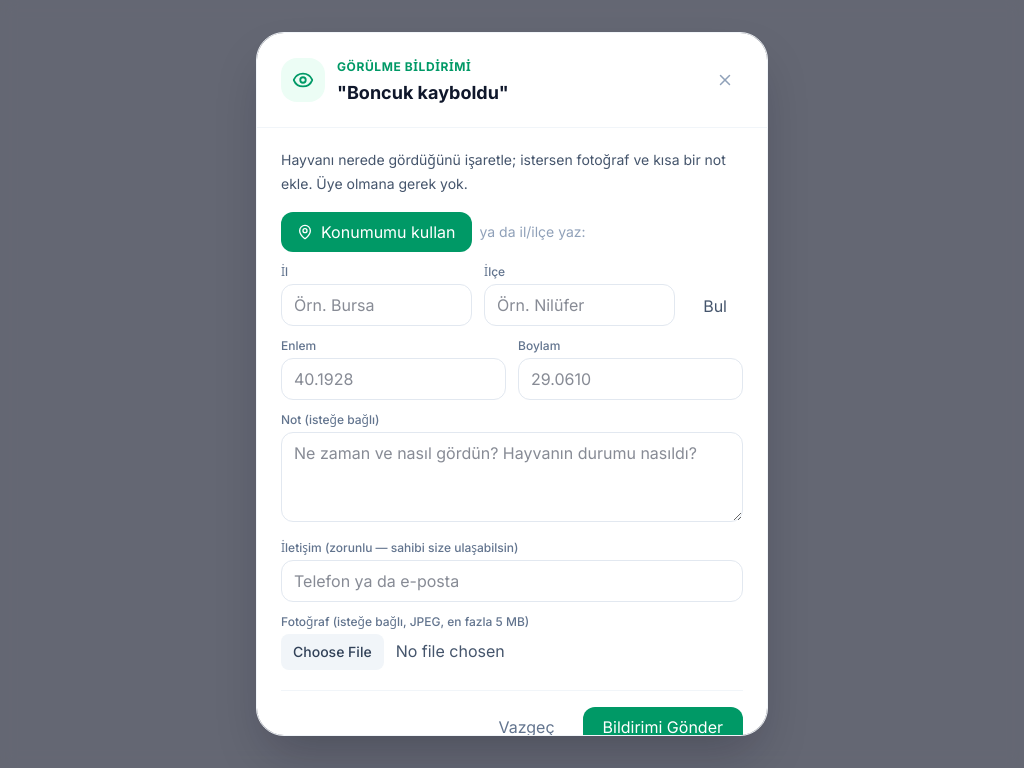
SightingModal › koordinatsız gönderim sunucuya çıkmaz, yol gösteren hata görünür
Type "0555 111 22 33" into the field labelled "İletişim (zorunlu — sahibi size ulaşabilsin)" at (512, 581), box [281,560,743,602]
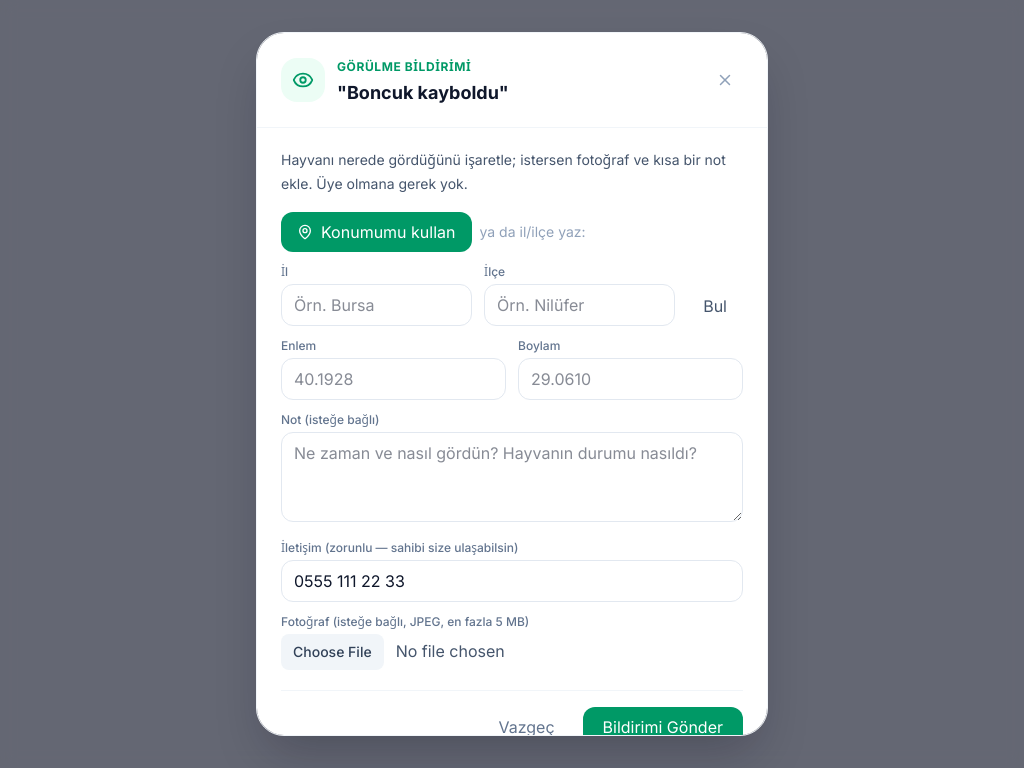
Click the button "Bildirimi Gönder" at (663, 727), box [582,707,743,747]
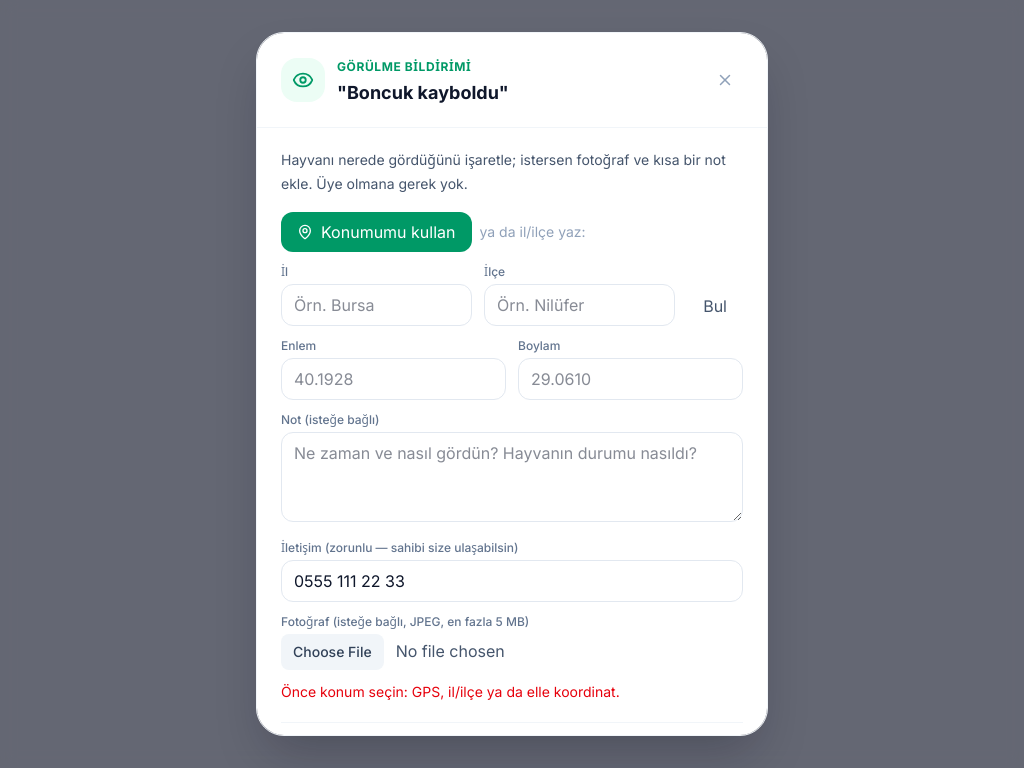
Expected: the text "Önce konum seçin: GPS, il/ilçe ya da elle koordinat." is shown, [281,683,620,700]
